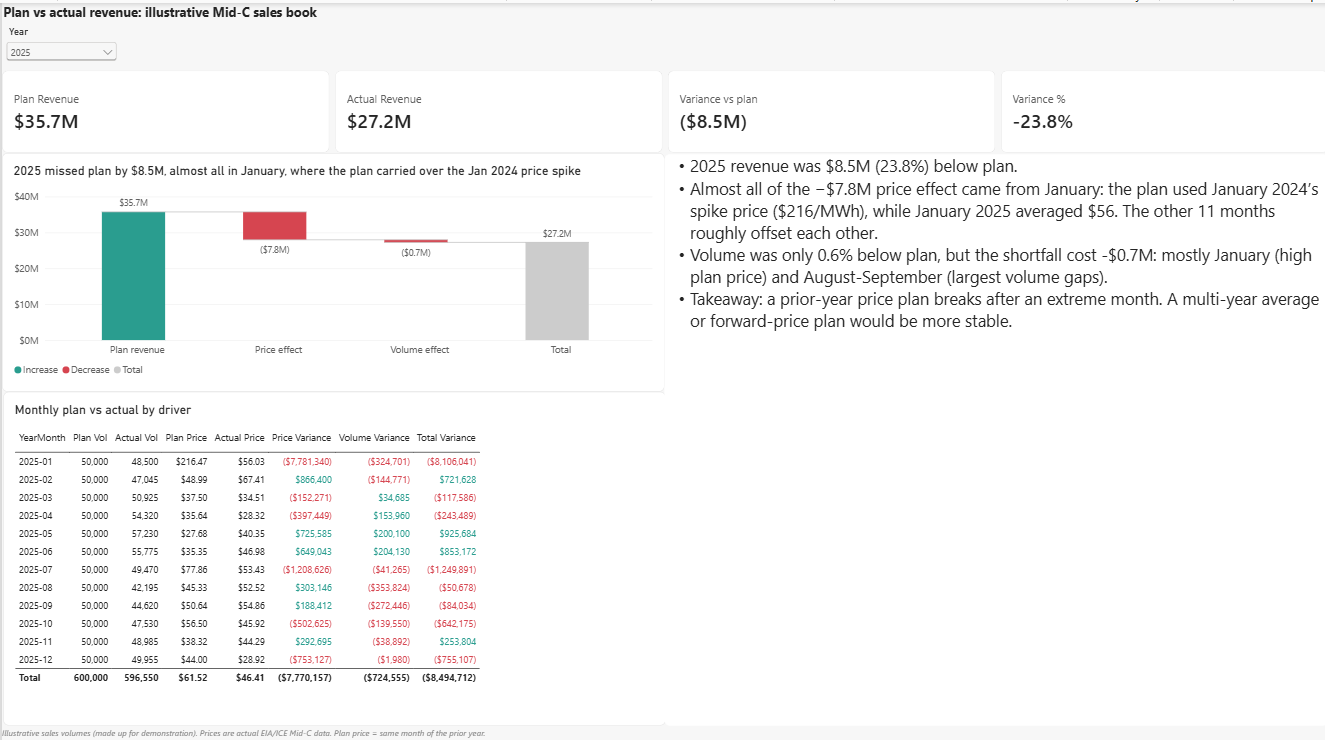

What the dashboard file says about the page in this screenshot:
{"tool":"powerbi","page":{"name":"Variance","canvas":[1920,1080],"ordinal":2},"visuals":[{"type":"slicer","fields":{"Values":["dim_date.Year"]},"box":[1.2,32.5,168.8,80],"z":0},{"type":"textbox","box":[1.8,0,1918.2,47.1],"z":2000},{"type":"waterfallChart","title":"2025 missed plan by $8.5M, almost all in January, where the plan carried over the Jan 2024 price spike","fields":{"Category":["bridge.Step"],"Y":["_Measures.Bridge Value"]},"box":[0,217.2,959.1,345.6],"z":3000},{"type":"cardVisual","fields":{"Data":["_Measures.Plan Revenue","_Measures.Actual Revenue","_Measures.Total Variance","_Measures.Variance % of Plan"]},"box":[0,98.2,1920,119.8],"z":4000},{"type":"tableEx","title":"Monthly plan vs actual by driver","fields":{"Values":["dim_date.YearMonth","_Measures.Plan Vol","_Measures.Actual Vol","_Measures.Plan Price","_Measures.Mid-C Price","_Measures.Price Variance","_Measures.Volume Variance","_Measures.Total Variance"]},"box":[1.8,562.8,959.1,483.2],"z":5000},{"type":"textbox","box":[959.1,219,960.9,827],"z":6000},{"type":"textbox","box":[0,1046,942.8,34.4],"z":7000}]}

Visuals, with their boxes in screenshot pixels (x1, y1, x2, y2), scaled from the page's 1920x1080 canvas onto the 1325x740 screenshot:
slicer - dim_date.Year: bbox(1, 22, 117, 77)
textbox: bbox(1, 0, 1324, 32)
"2025 missed plan by $8.5M, almost all in January, where the plan carried over the Jan 2024 price spike" waterfallChart: bbox(0, 149, 662, 386)
cardVisual - _Measures.Plan Revenue x _Measures.Actual Revenue: bbox(0, 67, 1324, 149)
"Monthly plan vs actual by driver" tableEx: bbox(1, 386, 663, 717)
textbox: bbox(662, 150, 1324, 717)
textbox: bbox(0, 717, 651, 739)
